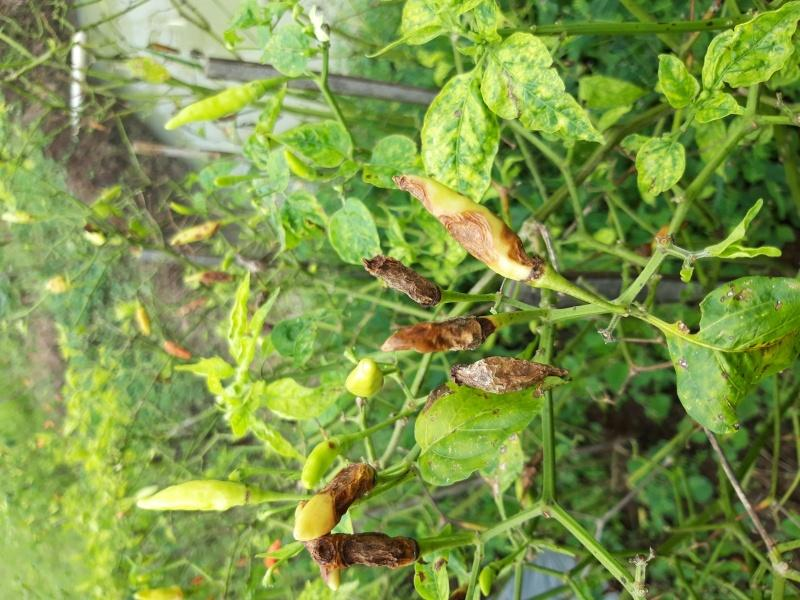antraknosa: (392, 174, 540, 284), (292, 462, 376, 543), (454, 356, 570, 394), (363, 255, 442, 308), (304, 532, 417, 568), (377, 316, 484, 353)
cabai_normal: (164, 82, 253, 127), (134, 477, 246, 511), (301, 437, 340, 487), (344, 359, 386, 397)
